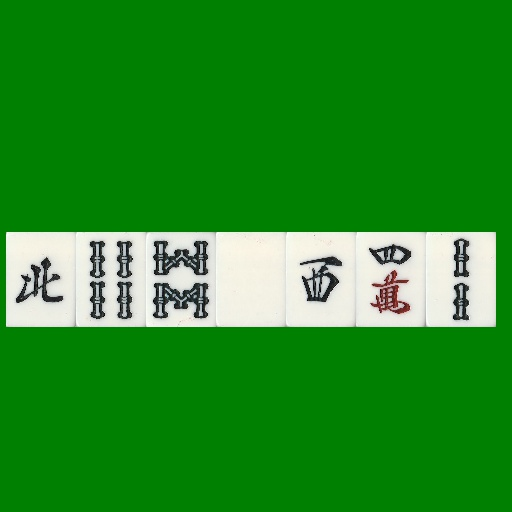2s: (426, 232, 496, 327)
4m: (356, 232, 426, 327)
4s: (76, 232, 146, 327)
8s: (146, 232, 216, 327)
north: (6, 232, 76, 327)
west: (286, 232, 356, 327)
white: (216, 232, 286, 327)
